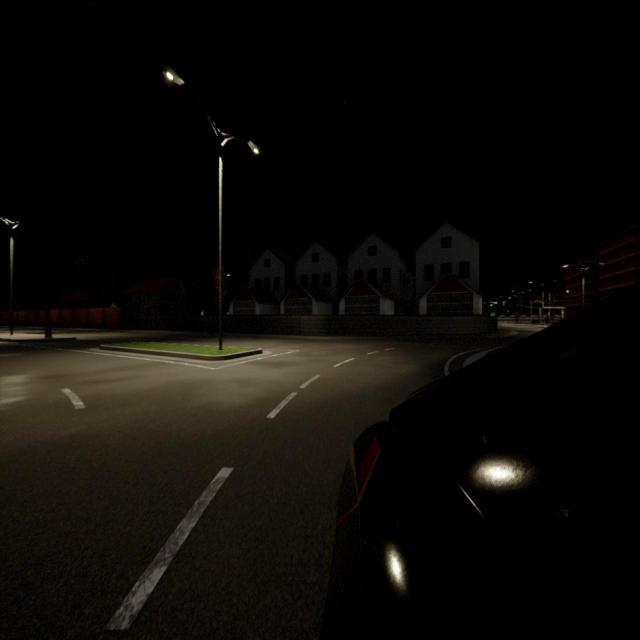Vehicle: (331, 302, 639, 637), (532, 319, 539, 323)
